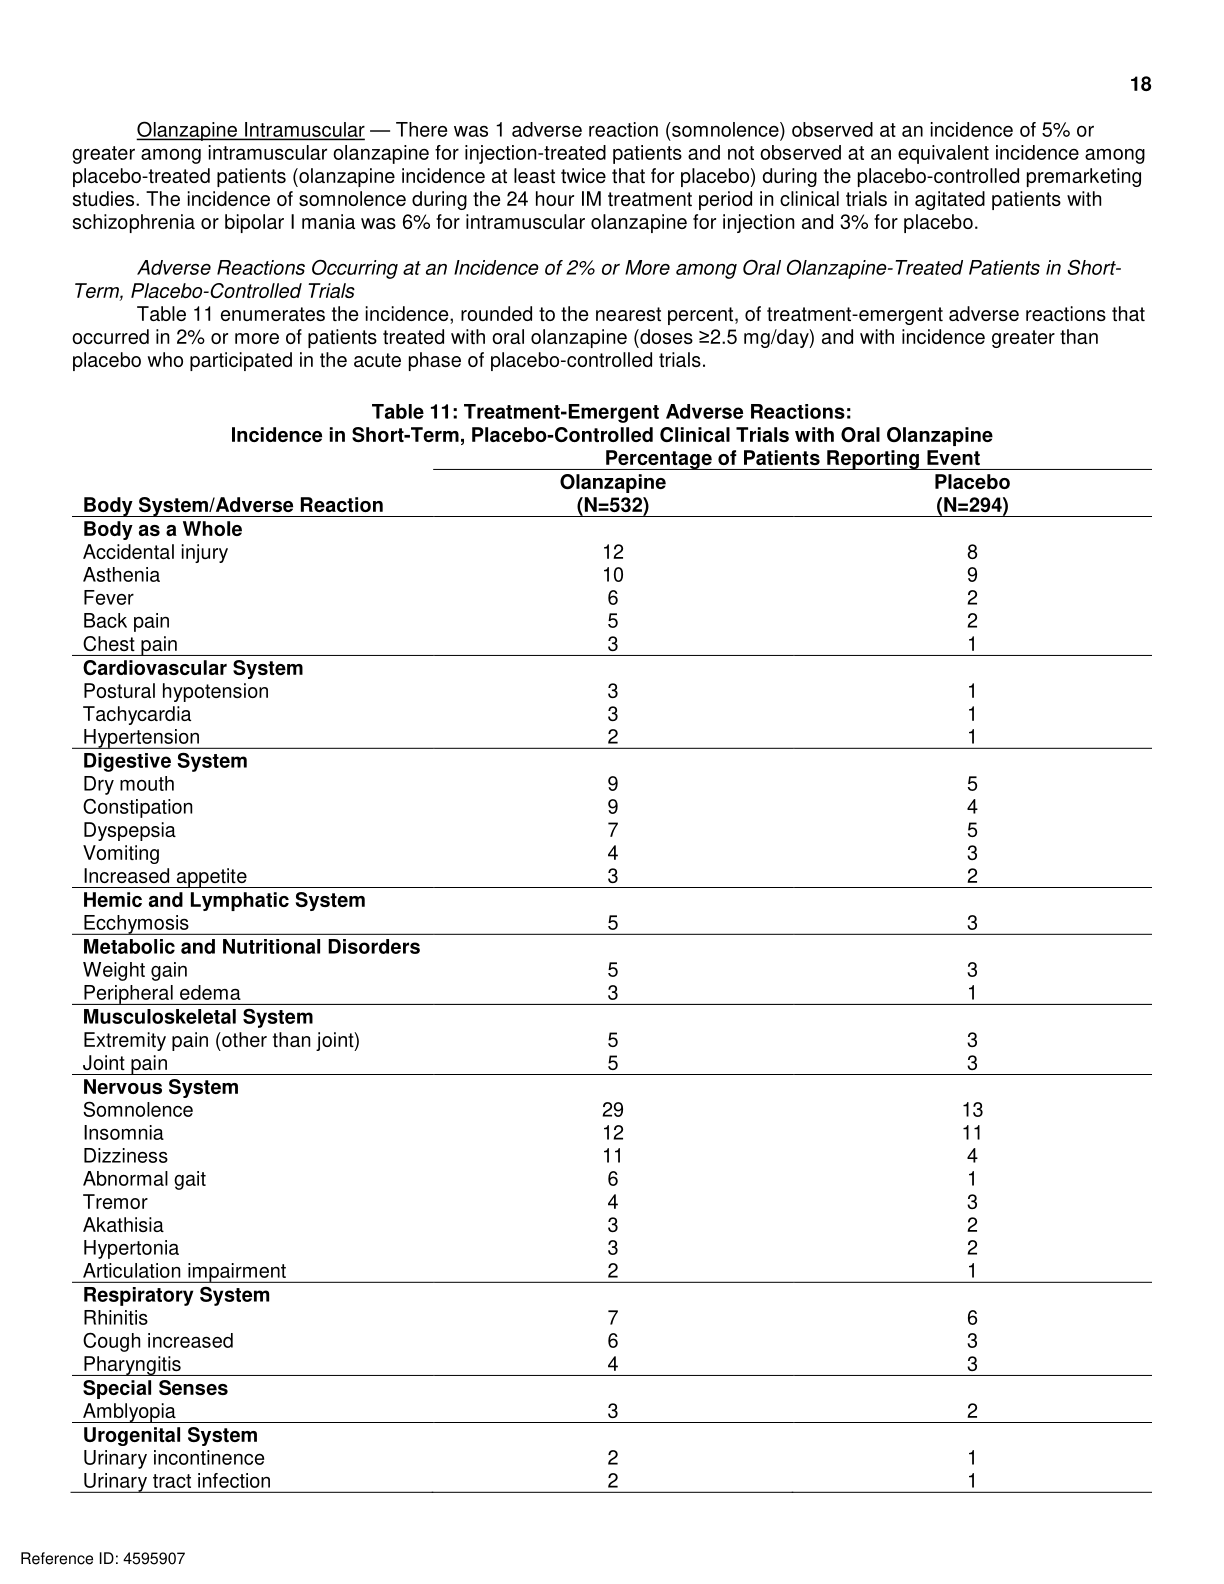partial_lined: (69, 468, 1155, 1494)
